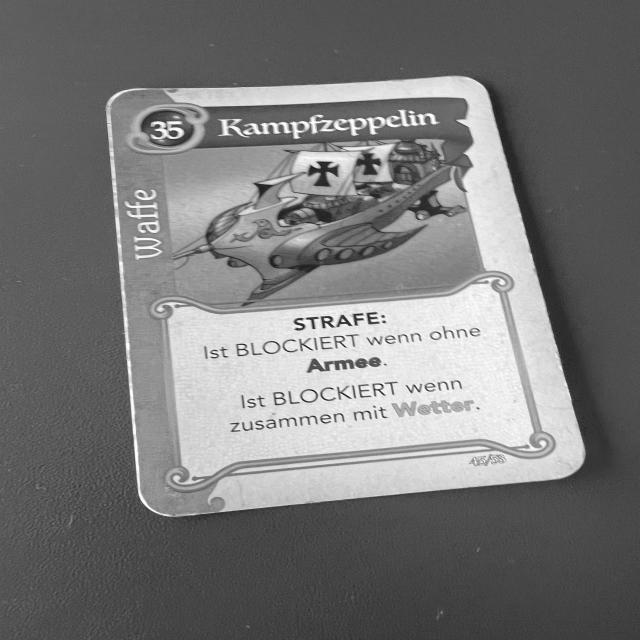War Dirigable: (106, 73, 596, 525)
